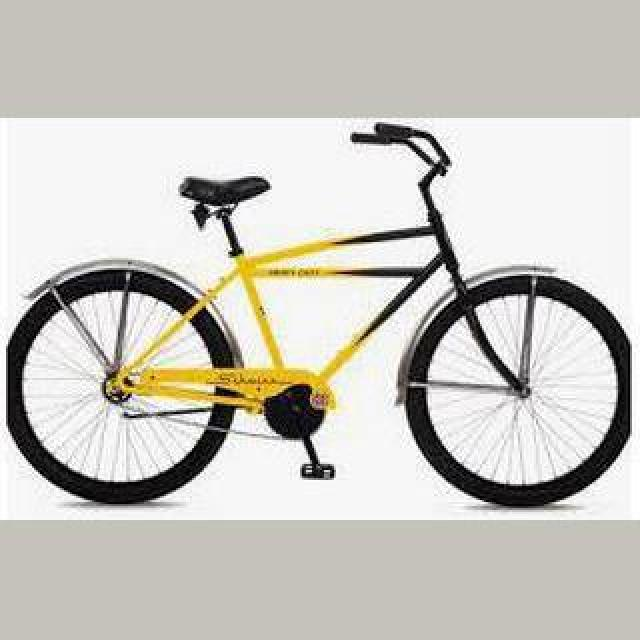Person: (7, 118, 631, 506)
